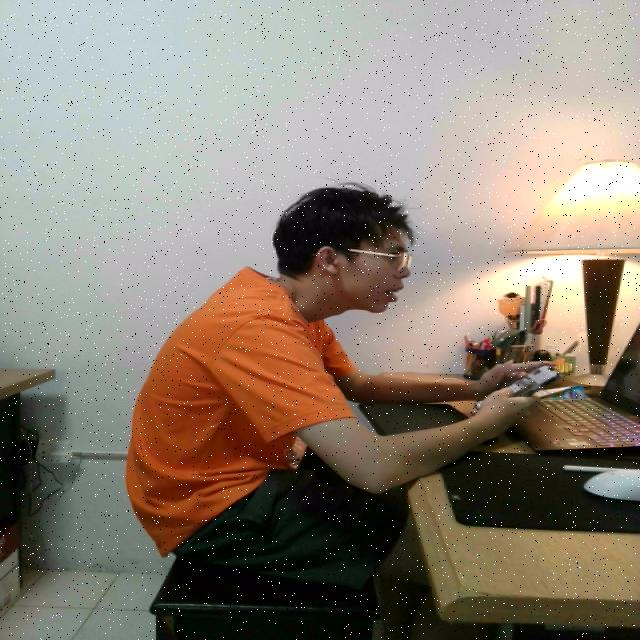Bad: (119, 180, 493, 577)
